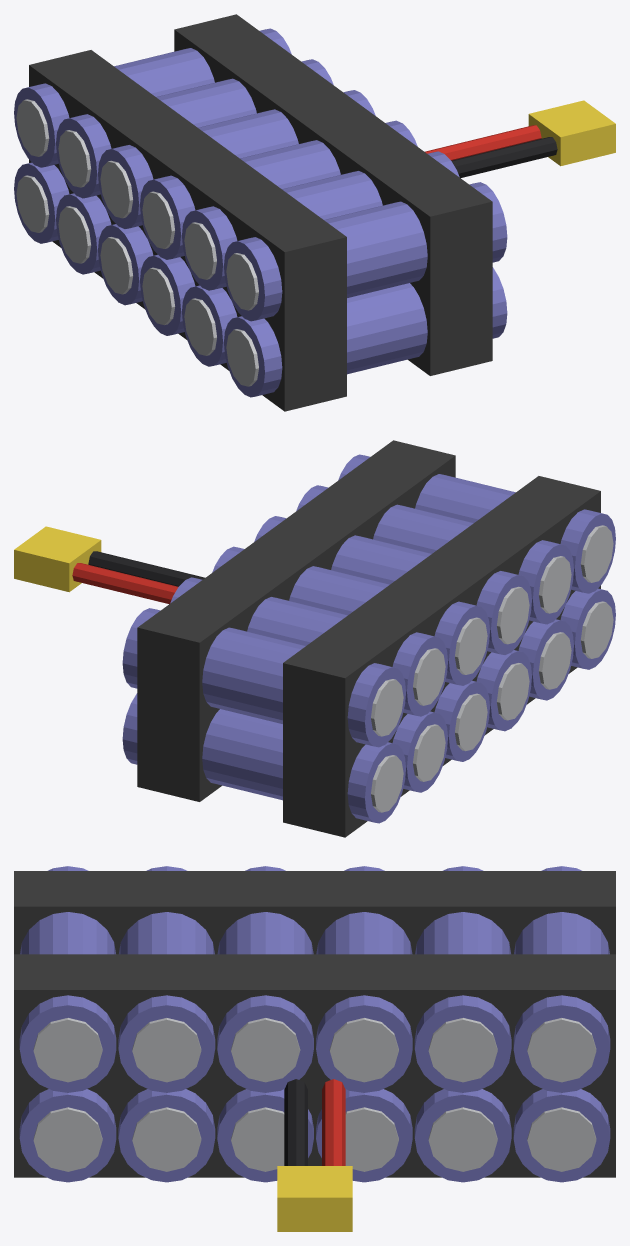
Rendered from Bat_P45B_2P.glb.
The picture shows the model from 3 angles, top to bottom: view 1: azimuth 30°, elevation 25°; view 2: azimuth 150°, elevation 25°; view 3: azimuth 270°, elevation 25°; orthographic projection. The views are drawn at different scales.
Parts seen in each view (by area): view 1: Tape.004, Tape.005, Cell10.002, Cell00.002, Cell14.001, Cell13.001, Cell11.002, Cell12.002, Cell15.001, XT60.004, LeadB.004, Cell03.001 (+17 smaller); view 2: Tape.004, Tape.005, Cell15.001, Cell05.001, Cell11.002, Cell12.002, Cell14.001, Cell13.001, Cell10.002, XT60.004, LeadR.004, Cell02.002 (+17 smaller); view 3: Tape.005, Tape.004, Cell10.002, Cell15.001, Cell11.002, Cell14.001, Cell12.002, Cell13.001, XT60.004, Cell00.002, Cell01.002, Cell04.001 (+17 smaller).
Boxes of the visible parts, bbox=[...] form: Tape.004: bbox=[29, 50, 346, 411]; Tape.005: bbox=[174, 14, 492, 375]; Cell10.002: bbox=[224, 182, 507, 321]; Cell00.002: bbox=[224, 267, 507, 397]; Cell14.001: bbox=[56, 59, 333, 198]; Cell13.001: bbox=[98, 90, 375, 228]; Cell11.002: bbox=[182, 151, 459, 290]; Cell12.002: bbox=[140, 120, 417, 259]; Cell15.001: bbox=[14, 28, 291, 167]; XT60.004: bbox=[528, 100, 615, 166]; LeadB.004: bbox=[451, 137, 557, 177]; Cell03.001: bbox=[98, 224, 153, 305]; Tape.004: bbox=[283, 476, 600, 837]; Tape.005: bbox=[137, 440, 455, 801]; Cell15.001: bbox=[122, 608, 405, 747]; Cell05.001: bbox=[122, 693, 405, 823]; Cell11.002: bbox=[296, 485, 573, 624]; Cell12.002: bbox=[254, 516, 531, 654]; Cell14.001: bbox=[170, 577, 447, 716]; Cell13.001: bbox=[212, 546, 489, 685]; Cell10.002: bbox=[338, 454, 615, 593]; XT60.004: bbox=[14, 526, 101, 592]; LeadR.004: bbox=[72, 563, 178, 603]; Cell02.002: bbox=[476, 650, 531, 731]; Tape.005: bbox=[14, 954, 615, 1177]; Tape.004: bbox=[14, 871, 615, 954]; Cell10.002: bbox=[19, 866, 116, 1092]; Cell15.001: bbox=[513, 866, 610, 1092]; Cell11.002: bbox=[118, 866, 215, 1092]; Cell14.001: bbox=[414, 866, 511, 1092]; Cell12.002: bbox=[217, 866, 313, 1092]; Cell13.001: bbox=[316, 866, 412, 1092]; XT60.004: bbox=[277, 1166, 352, 1231]; Cell00.002: bbox=[19, 1089, 116, 1182]; Cell01.002: bbox=[118, 1089, 215, 1182]; Cell04.001: bbox=[414, 1089, 511, 1182].
Bounding box in the file's own units: 0.134 × 0.044 × 0.128.
